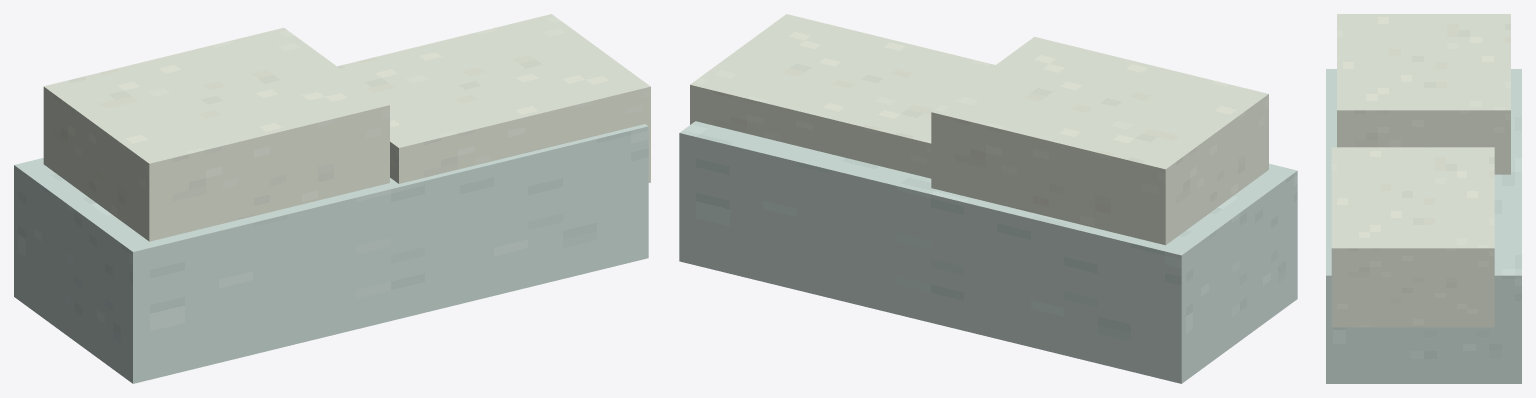
File: cloud.glb
3 views of the same model, side by side, from view 1: azimuth 30°, elevation 25°; view 2: azimuth 150°, elevation 25°; view 3: azimuth 270°, elevation 25° (orthographic). The views are drawn at different scales.
Parts seen in each view (by area): view 1: cloud; view 2: cloud; view 3: cloud.
Part boxes in pixels (<box>): cloud: <box>14,14,650,383</box>; cloud: <box>679,14,1297,383</box>; cloud: <box>1326,14,1521,383</box>.
Bounding box in the file's own units: 4.55 × 1.75 × 1.8.
Materials: 1 (1 with a texture image).
